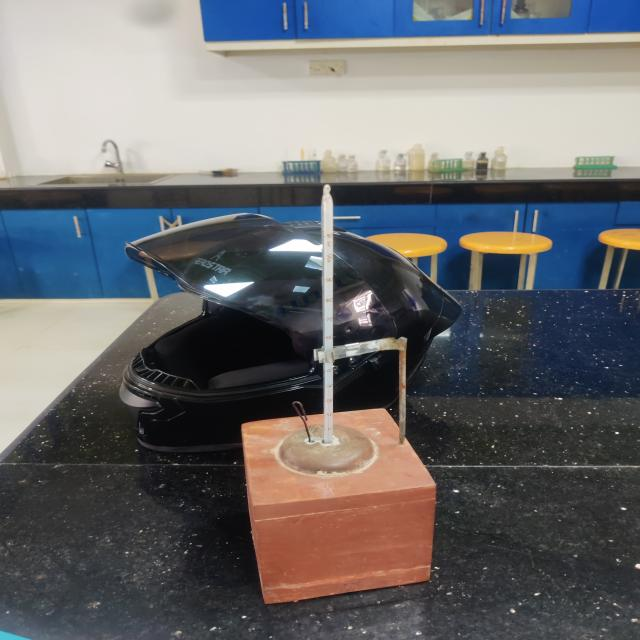Calorimeter: (212, 177, 446, 614)
